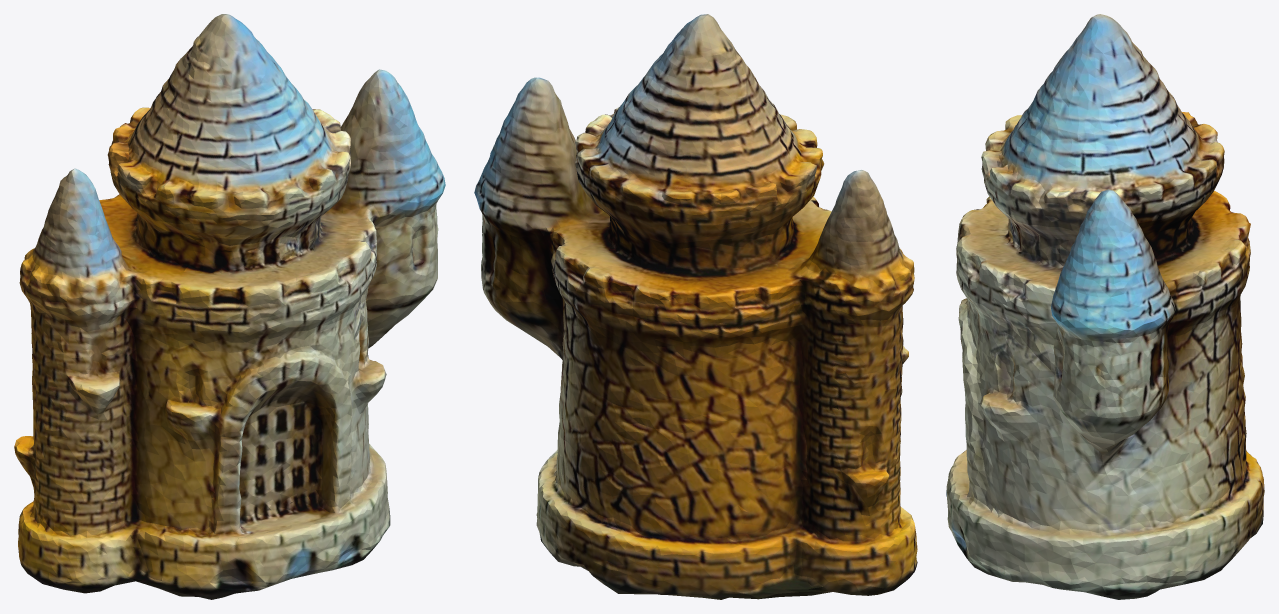
Rendered from castle2.glb.
3 views of the same model, side by side, from view 1: azimuth 30°, elevation 25°; view 2: azimuth 150°, elevation 25°; view 3: azimuth 270°, elevation 25° (orthographic).
Size of the model in its own units: 0.04 by 0.0485 by 0.0267.
1 material, 1 textured.
